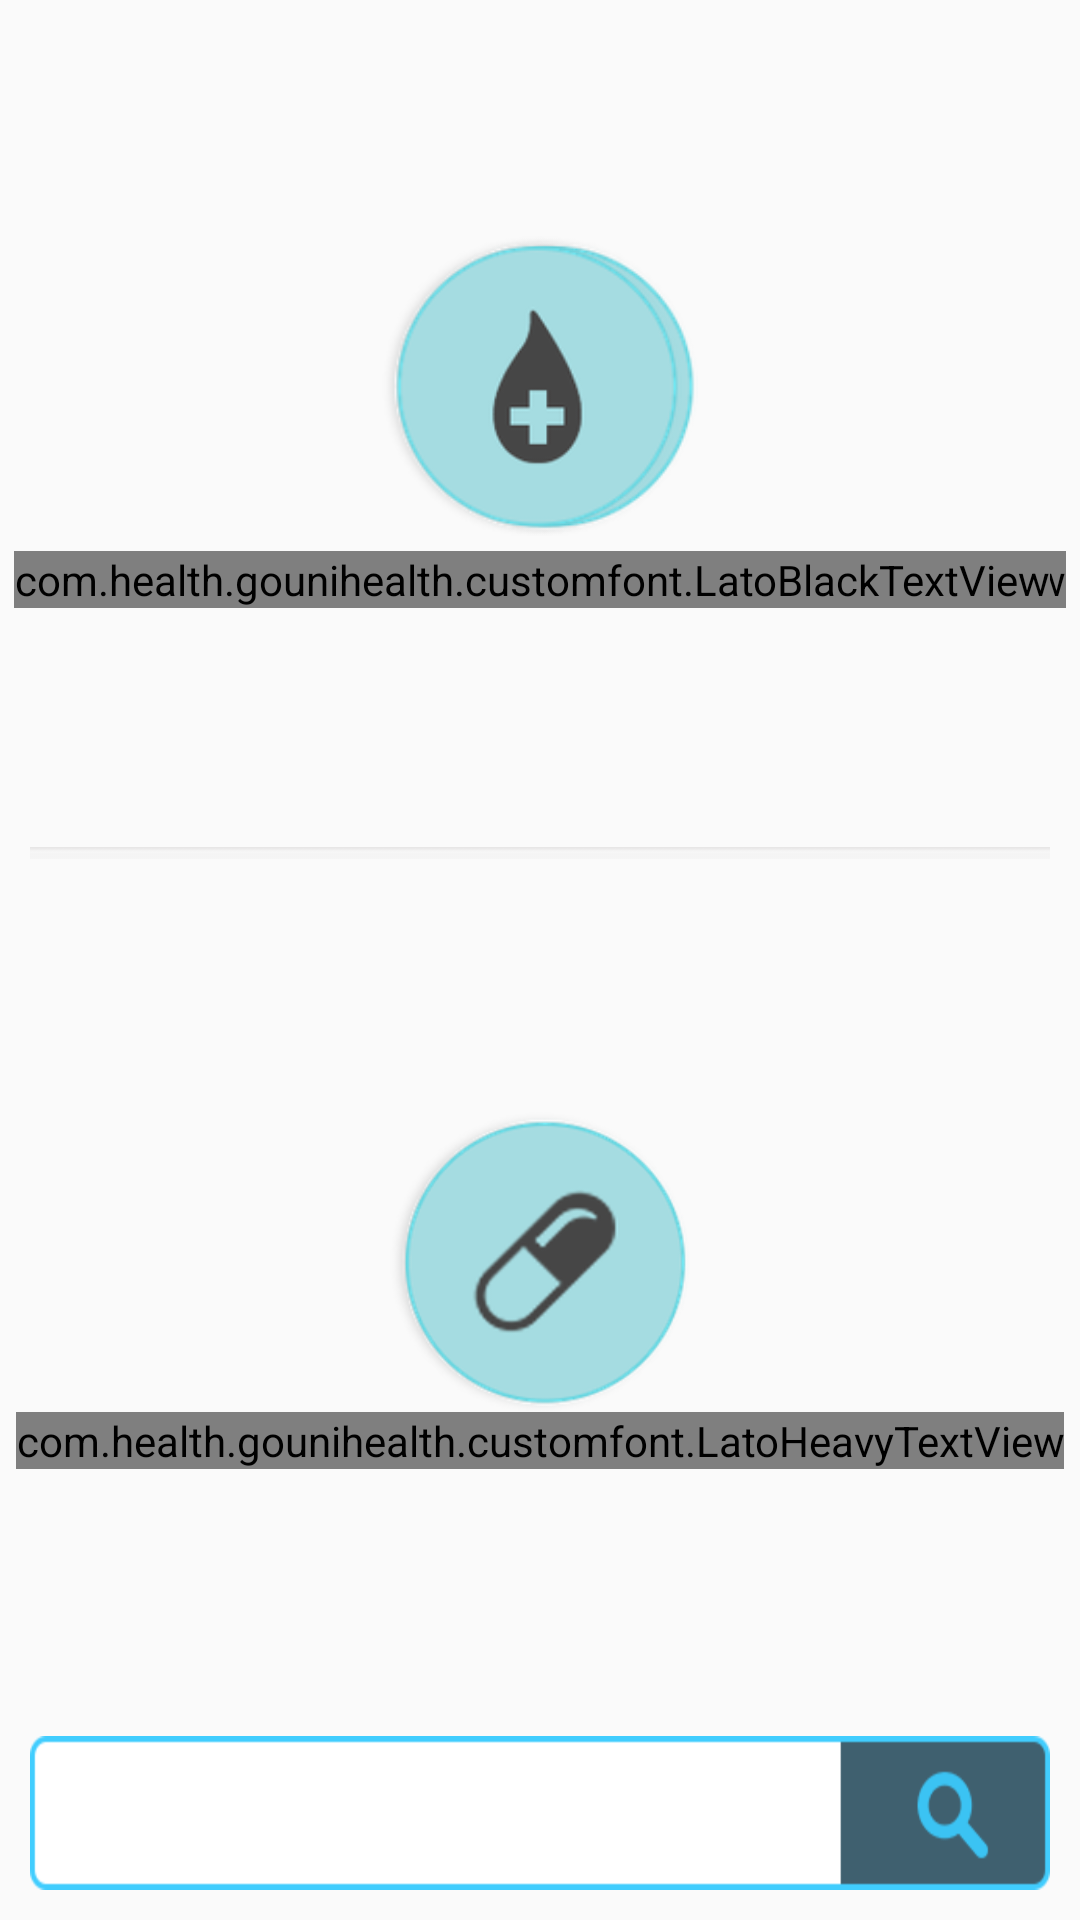

Icons on this 1080px×1920px Android screen, each with the point to tap as [x,y]:
pharmacy: [545,1262]
